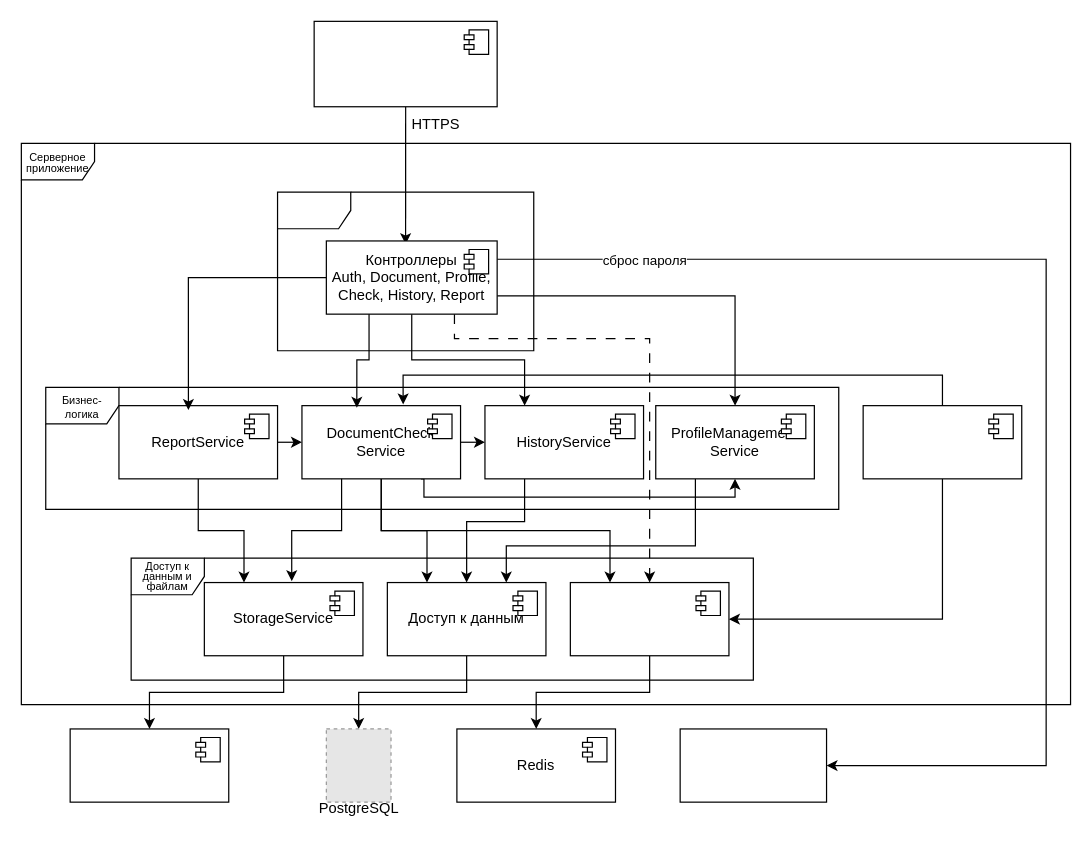
The diagram is 1092 pixels wide and 848 high, and some of its shapes have lost their labels. Grey dashed boxes stand in for pictures. The box of each missing label's shape, as (x1, y1, x2, y2) in pixels:
Веб-браузер (React): (313, 20, 497, 107)
Обработчик проверок (worker): (862, 404, 1022, 479)
Почтовый сервис: (679, 728, 827, 802)
Предста- вление: (276, 191, 534, 351)
Работа с Redis: (569, 581, 729, 656)
Хранилище MinIO: (69, 728, 229, 802)
